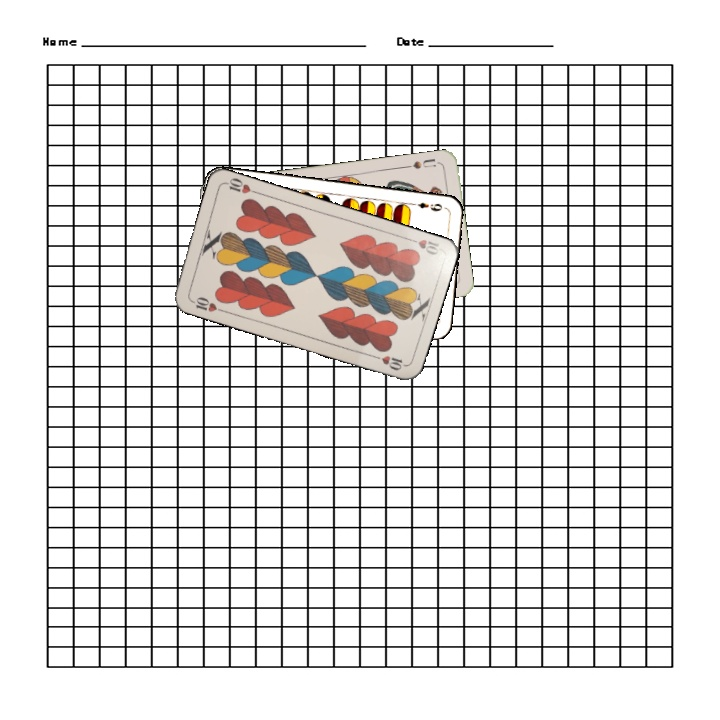E9: (407, 198, 445, 214)
H10: (403, 233, 442, 258), (186, 293, 226, 315)
SU: (401, 154, 438, 171)
